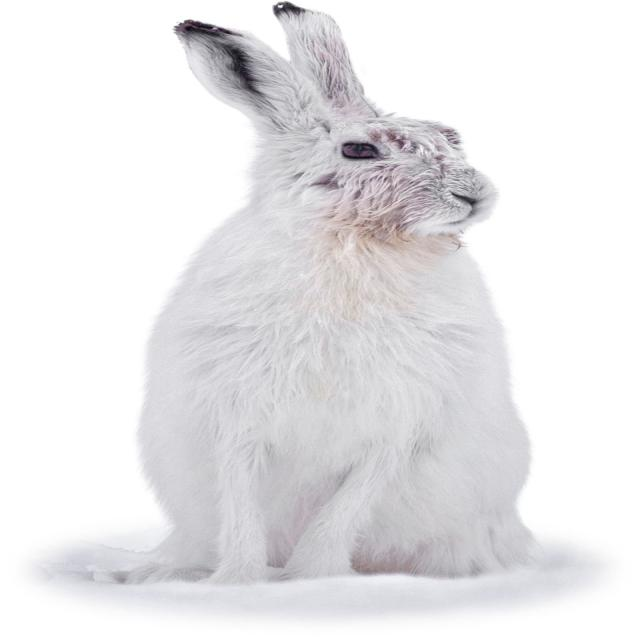Hare: (71, 5, 587, 594)
